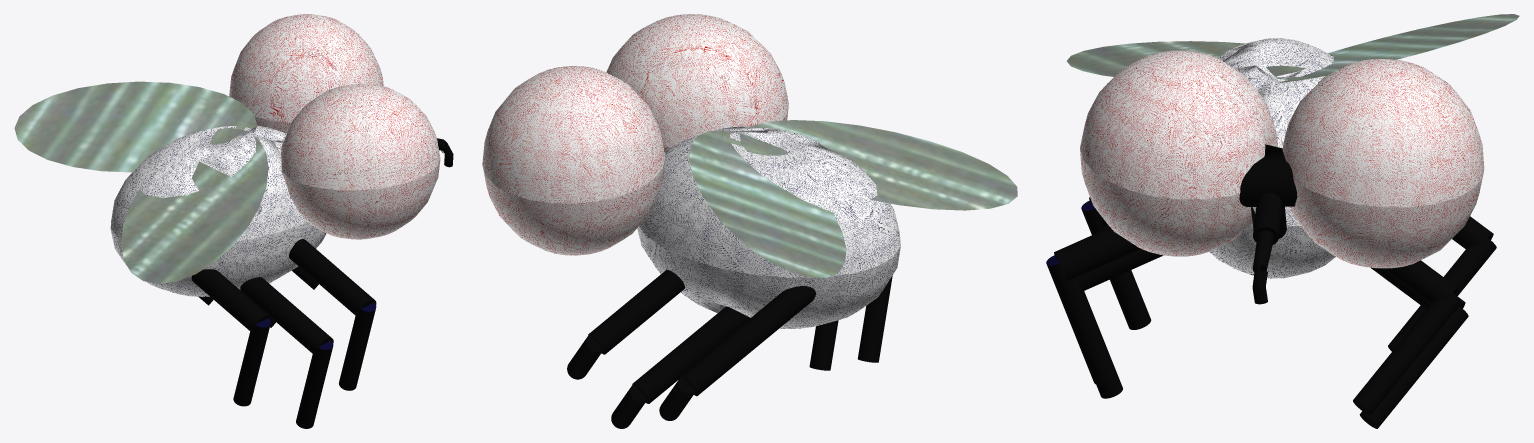
The model's file is flying bug.dae.
3 views of the same model, side by side, from view 1: azimuth 30°, elevation 25°; view 2: azimuth 150°, elevation 25°; view 3: azimuth 270°, elevation 25° (orthographic). The views are drawn at different scales.
Parts seen in each view (by area): view 1: Component_9 (×11); view 2: Component_9 (×13); view 3: Component_9 (×20).
Boxes of the visible parts, x1,y1,x2,y2 form: Component_9 (×11): (14, 14, 440, 428); Component_9 (×13): (482, 14, 1017, 428); Component_9 (×20): (1047, 14, 1519, 428).
Size of the model in its own units: 19.25 by 16.29 by 15.02.
